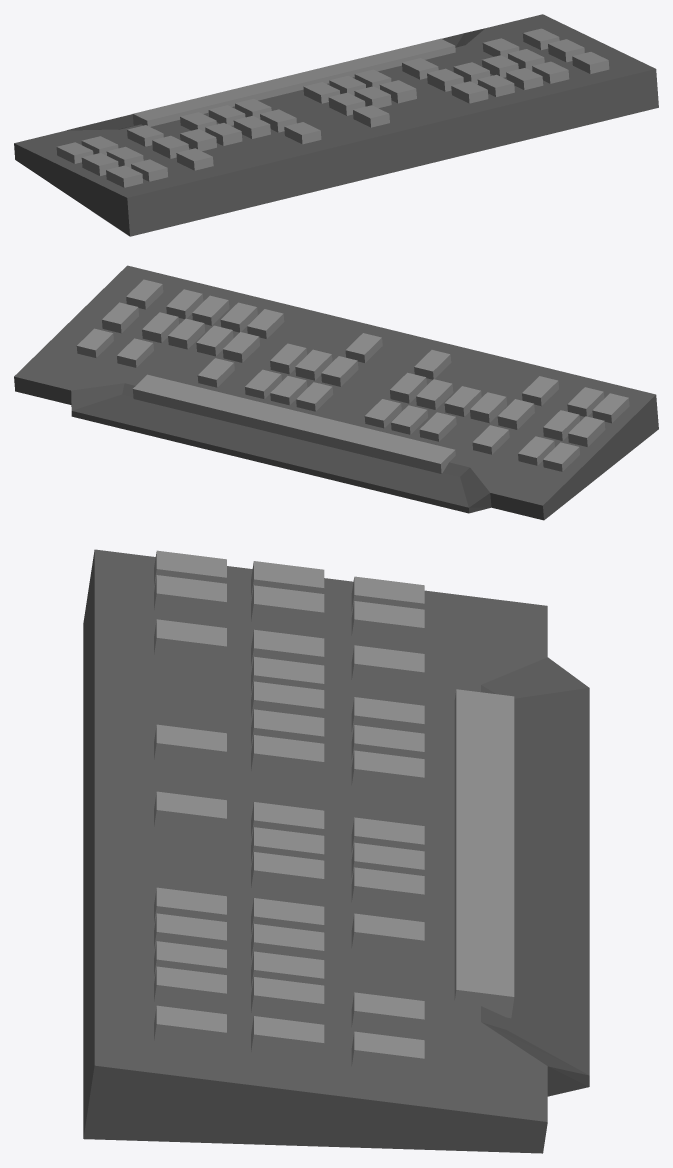
File: keyboard.FBX
The picture shows the model from 3 angles, top to bottom: view 1: azimuth 30°, elevation 25°; view 2: azimuth 150°, elevation 25°; view 3: azimuth 270°, elevation 25°; orthographic projection. The views are drawn at different scales.
Parts seen in each view (by area): view 1: keyboard; view 2: keyboard; view 3: keyboard.
Boxes of the visible parts, x1,y1,x2,y2 form: keyboard: (14, 14, 658, 236); keyboard: (14, 265, 658, 520); keyboard: (83, 549, 589, 1153).
Bounding box in the file's own units: 21.82 × 1.94 × 9.04.
